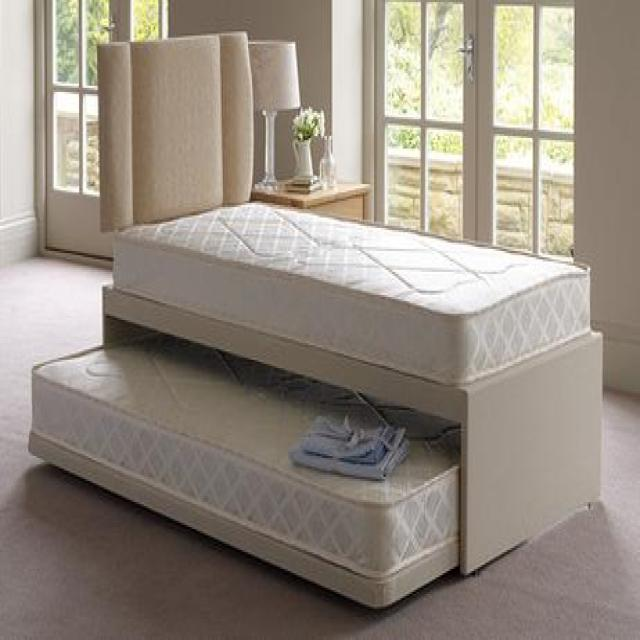bed: (102, 200, 604, 579)
